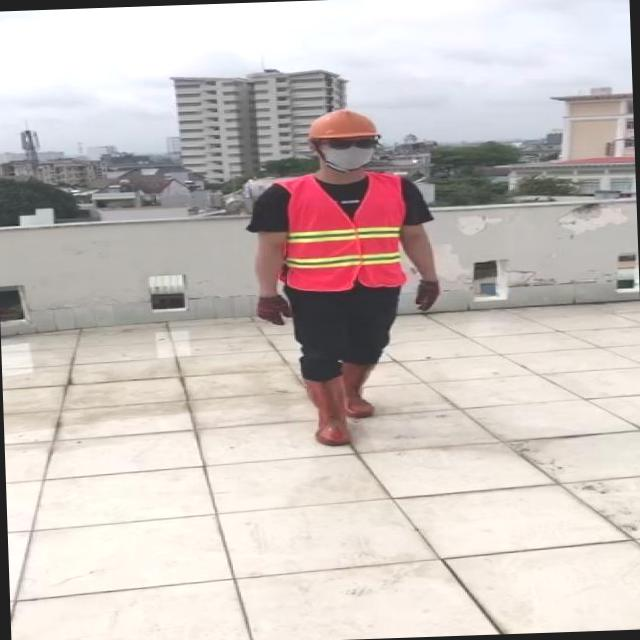boots: (304, 376, 352, 447), (346, 362, 384, 418)
gloves: (254, 291, 294, 327), (412, 278, 446, 312)
helmet: (301, 104, 384, 143)
vest: (281, 172, 406, 291)
